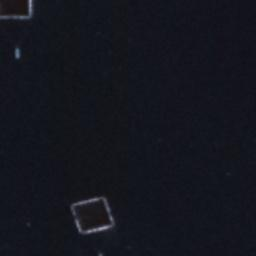square_solid: (67, 193, 118, 237), (1, 1, 37, 22)
